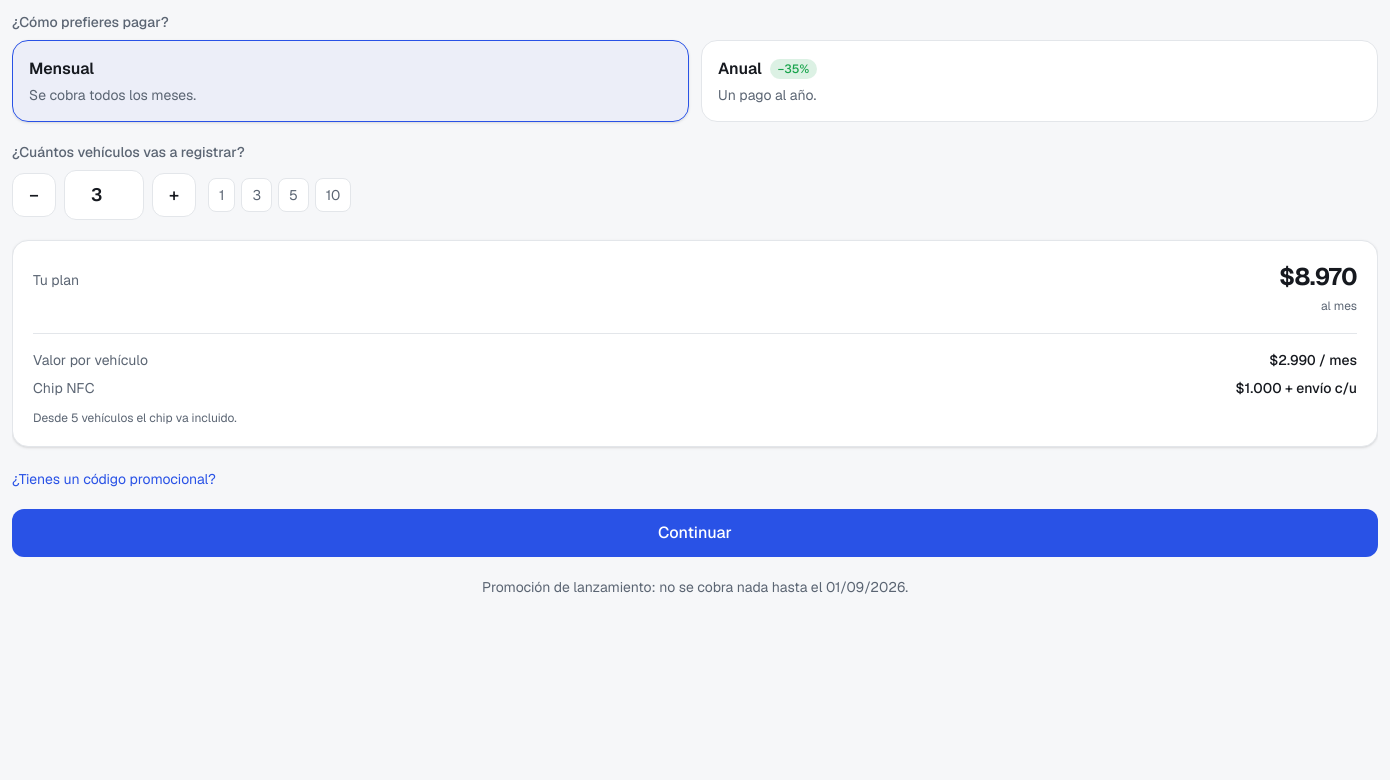
SelectorPlan › con menos de 5 vehículos muestra el precio del chip; con 5 o más dice "Incluido"
Expected: the text "$1.000 + envío c/u" is shown, [1236,378,1357,398]
Step 1. Click the button "5" → (293, 195), box [278,178,309,212]
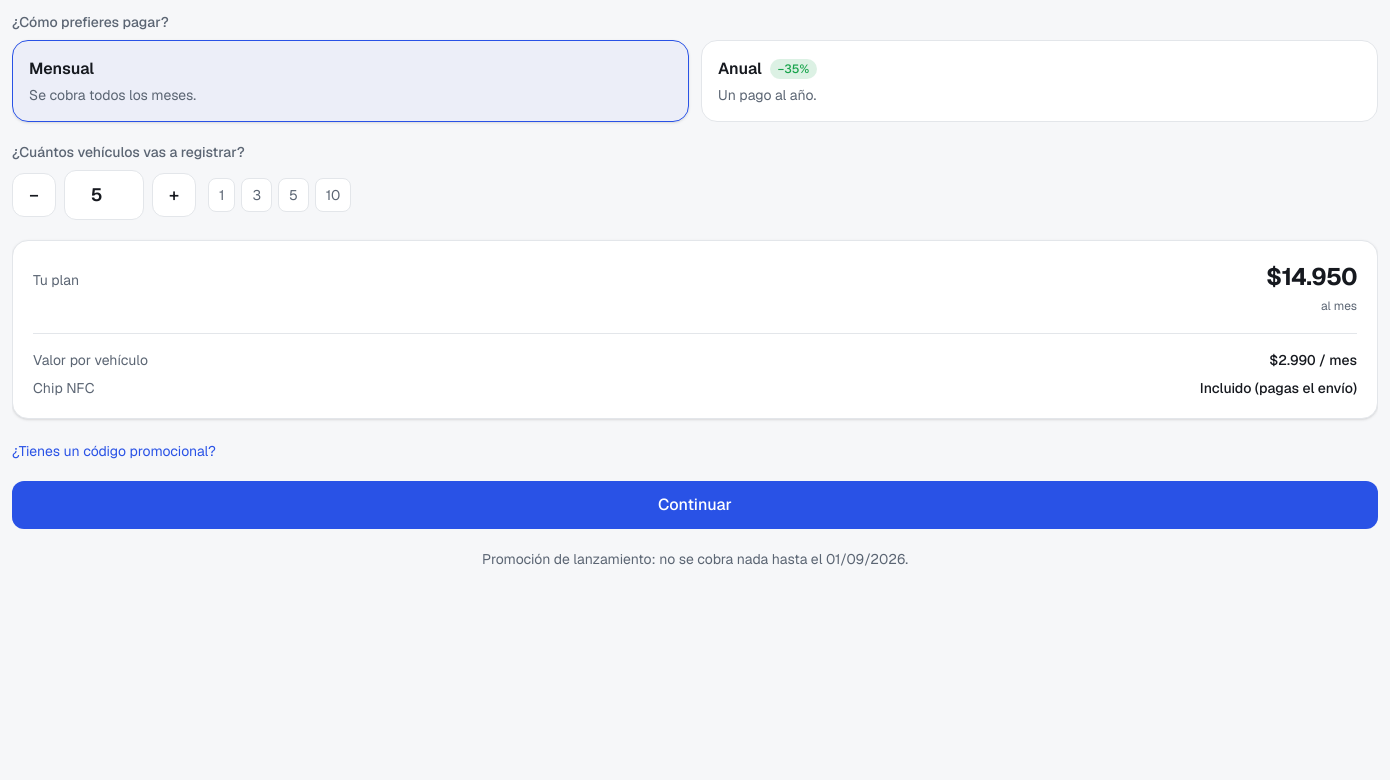
Expected: the text "Incluido (pagas el envío)" is shown, [1200,378,1357,398]
